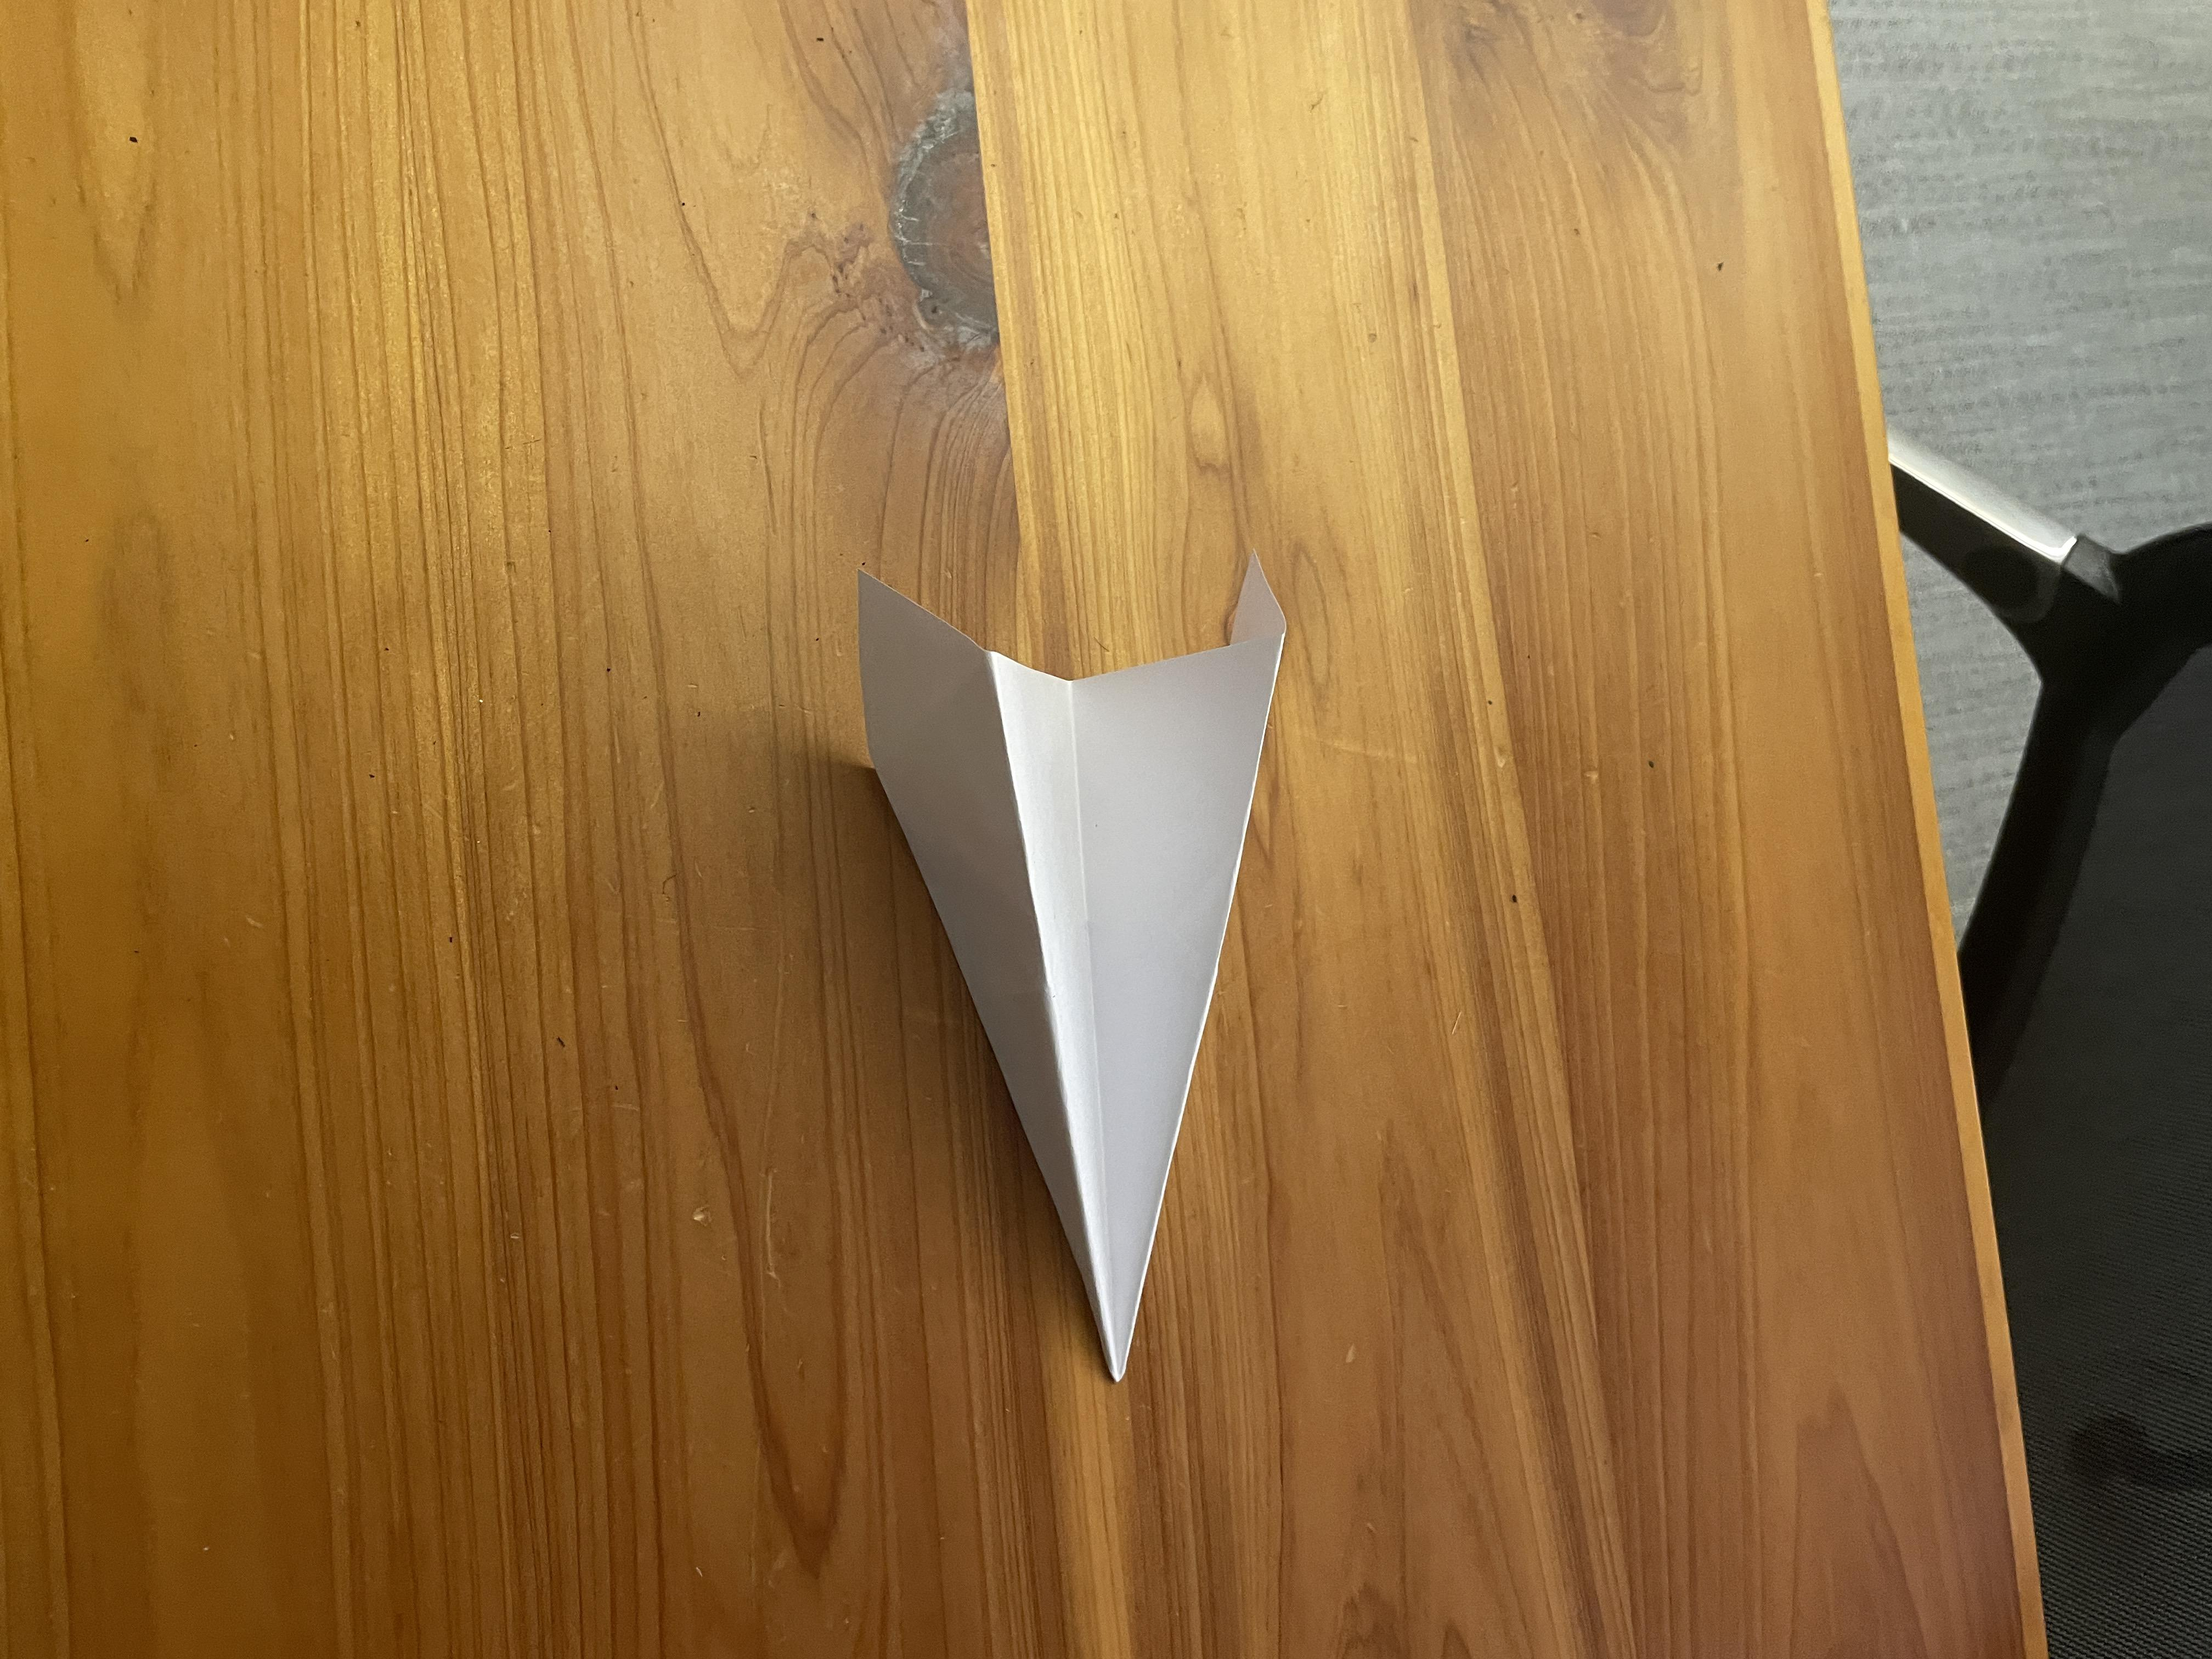shape_3: (730, 476, 1440, 1432)
